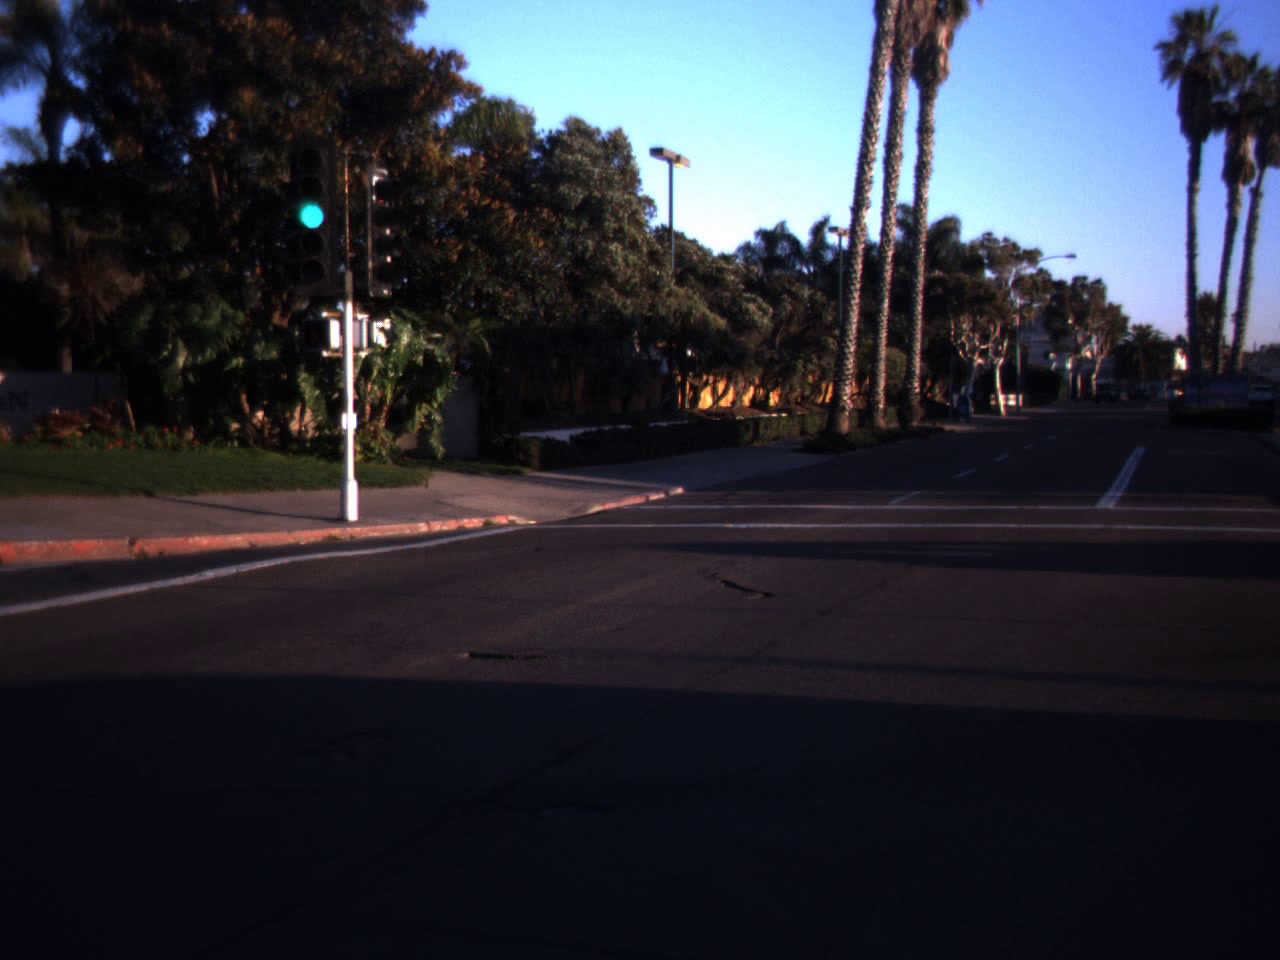go: (282, 129, 342, 239)
